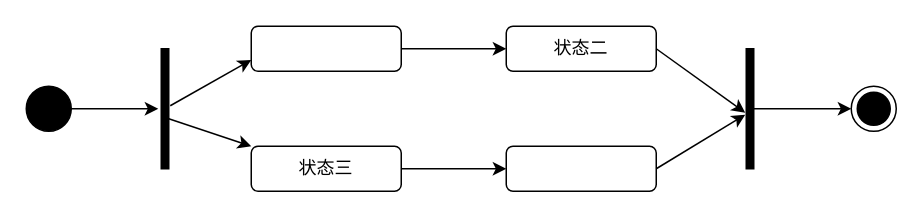
Image size: 923x218. Some labels were removed from this diagram. Here are the shapes that lost their labels. From the top down, the centre of each, then its label:
[325,48]: 状态一
[580,168]: 状态四
